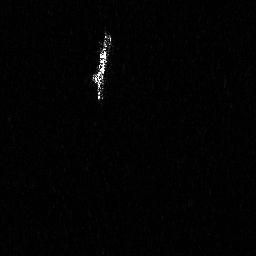ship: (91, 30, 113, 103)
